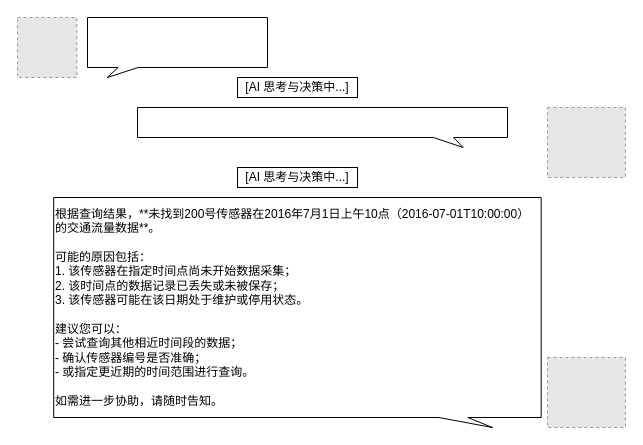
This 643x445 diagram has some shape labels left out. Grey dashed boxes stand in for pictures. The box of each missing label's shape, as (x1, y1, x2, y2) in pixels:
tool_simple_query {'entity_id': 200, 'time': '2016-07-01T10:00:00'}: (136, 106, 508, 148)
帮我查一下200号传感器在2016年7月1日上午十点的流量: (86, 16, 268, 78)
